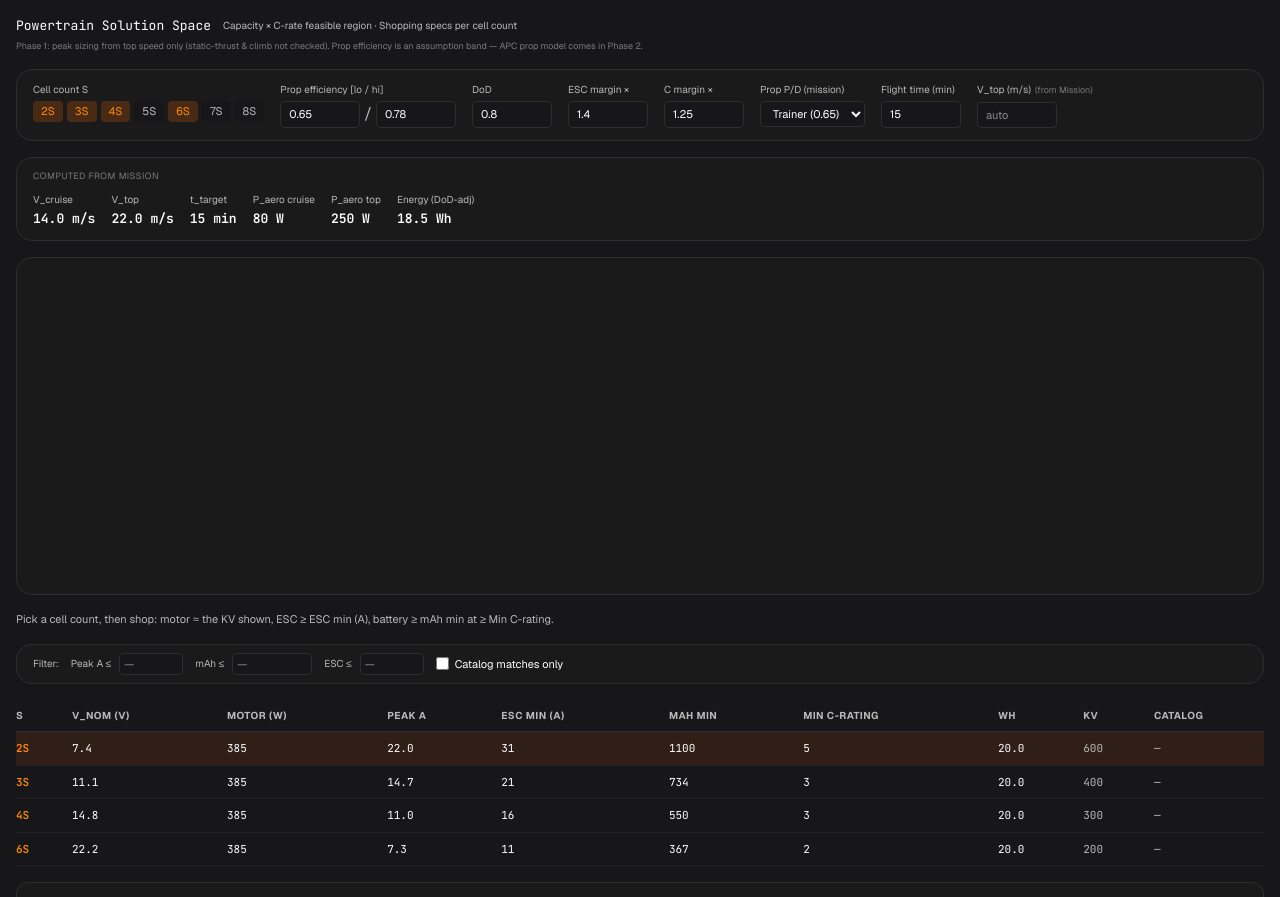
Scenario: PowertrainTab › column Peak-A filter reduces visible rows (conservative i_peak_hi_a)
The image size is (1280, 897).
// Filter to Peak A ≤ 15 → hides 2S (22A) but keeps 3S (~14.67A), 4S, 6S
Type "15" into the number field with test id "filter-peak-a". click: (151, 664)
box: x1=119 y1=652 x2=183 y2=675
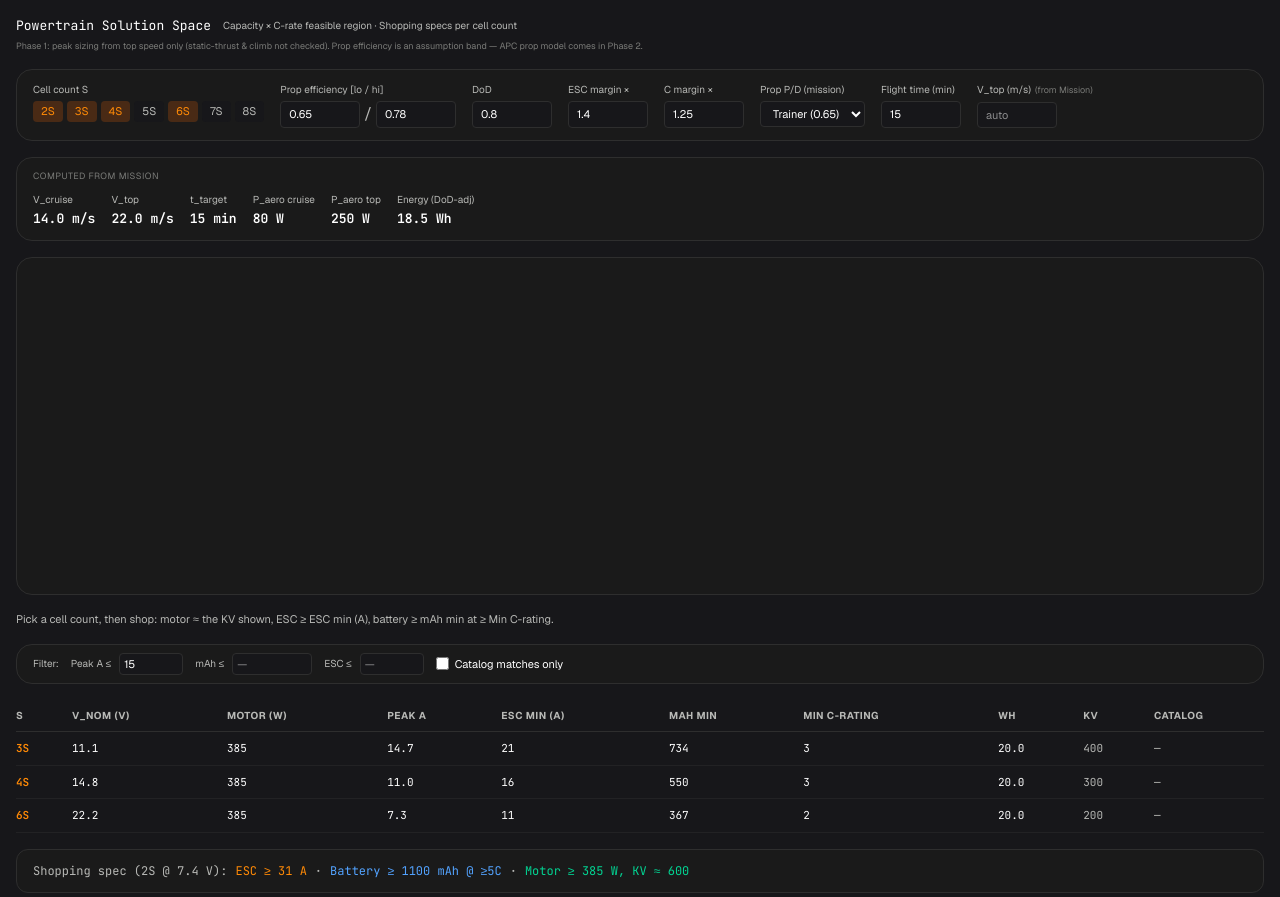
Expected: the row with test id "solution-row-3" is shown, x1=16 y1=732 x2=1264 y2=765
Result: the row with test id "solution-row-2" is gone
